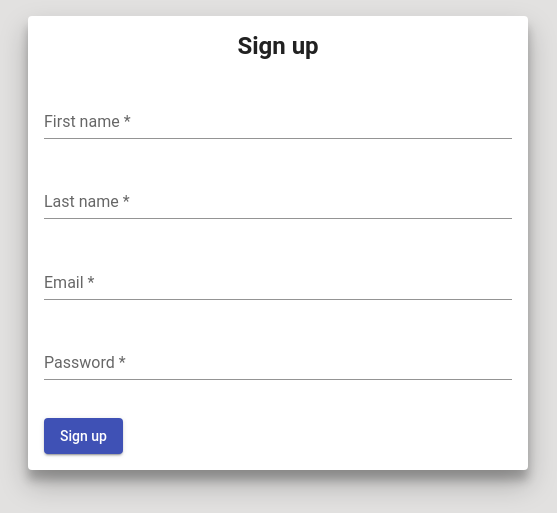
Test: sign up › should display invalid email error
Type "user.email@" into the field with test id "email" at point(278, 283), box left=44, top=274, right=512, bottom=292
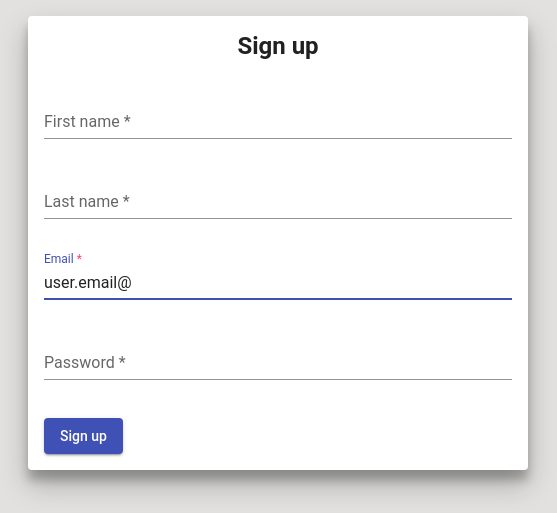
Leave the field with test id "email", box left=44, top=274, right=512, bottom=292
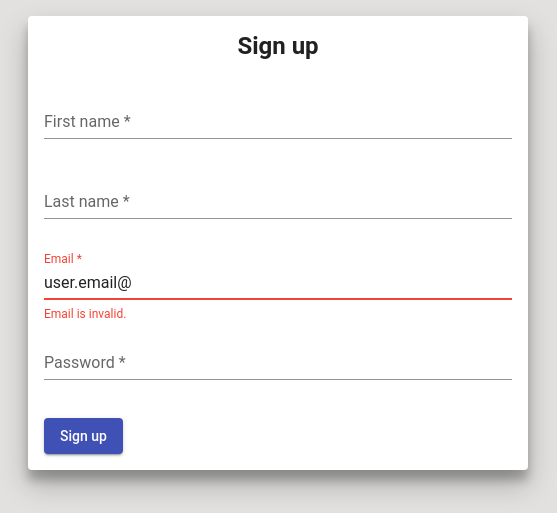
expect the text "Email is invalid." is shown: met, box left=44, top=308, right=126, bottom=321
